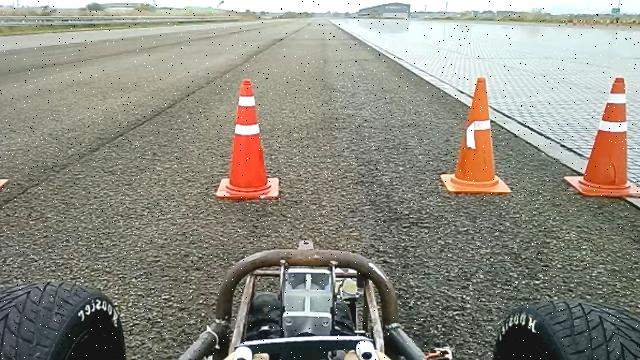red cone: (563, 75, 640, 198), (440, 75, 512, 195), (216, 78, 280, 200)
